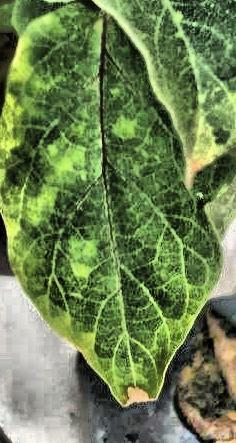Non-critical Stress: (1, 0, 236, 443)
